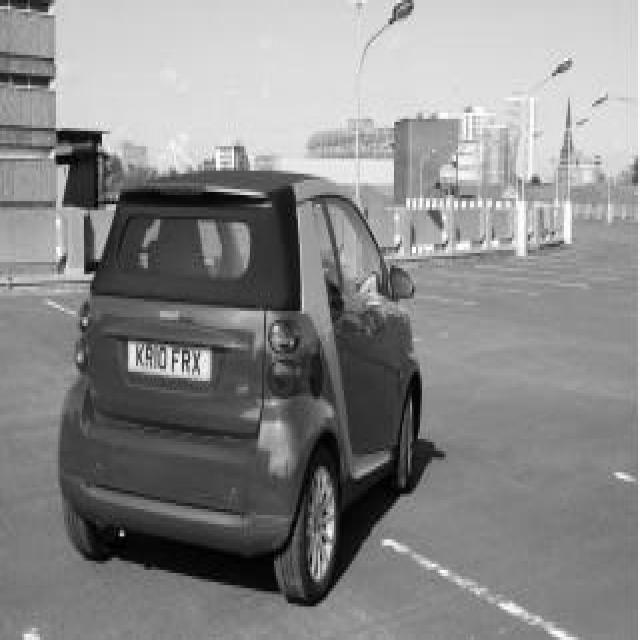Car: (58, 173, 422, 601)
